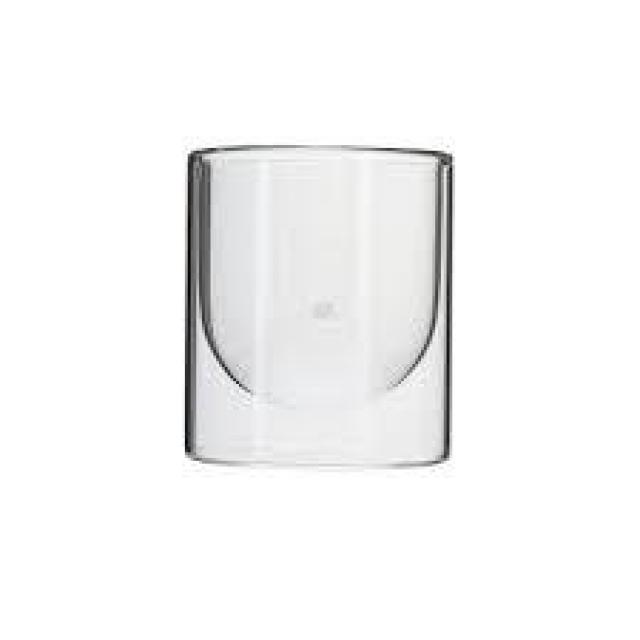non-organic waste: (178, 131, 459, 478)
